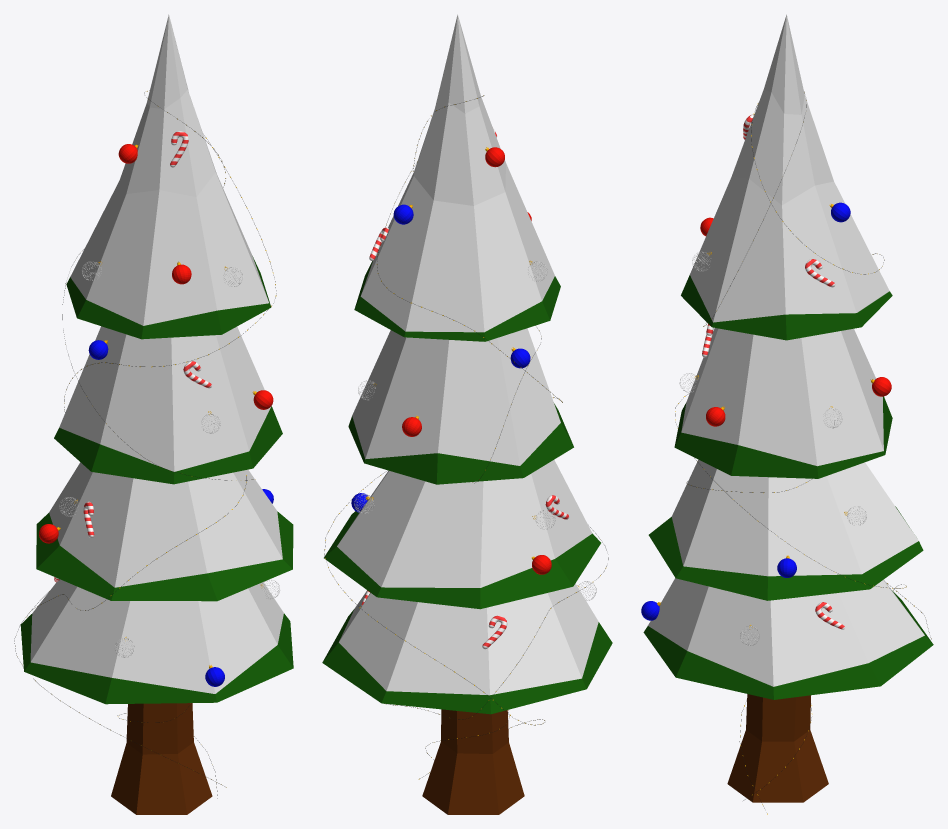
The model's file is arvore_natal.glb.
3 views of the same model, side by side, from view 1: azimuth 30°, elevation 25°; view 2: azimuth 150°, elevation 25°; view 3: azimuth 270°, elevation 25° (orthographic).
Parts seen in each view (by area): view 1: BezierCurve.014; view 2: BezierCurve.014; view 3: BezierCurve.014.
Boxes of the visible parts, box(x1,y1,x2,y2) form: BezierCurve.014: box(14, 14, 293, 814); BezierCurve.014: box(322, 14, 612, 814); BezierCurve.014: box(641, 14, 933, 814).
Size of the model in its own units: 3.34 by 9.86 by 3.36.
10 materials, 1 textured.
